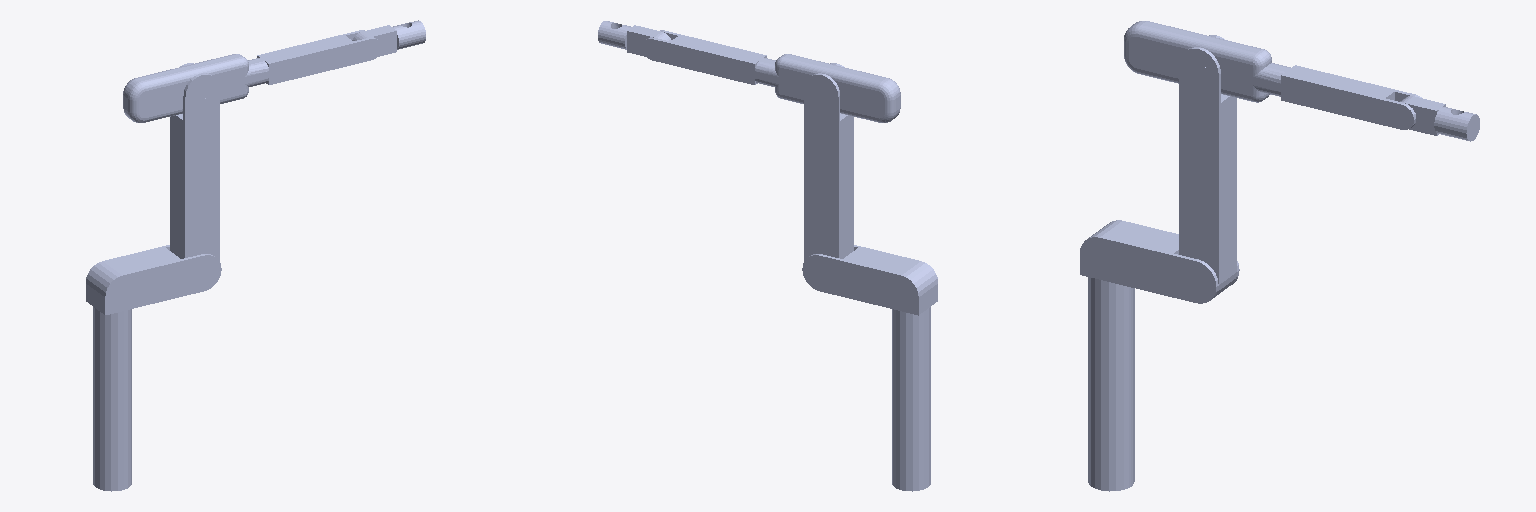
The robot description file, URDF, robot "antrop_parcial":
<?xml version="1.0" encoding="utf-8"?>
<!-- This URDF was automatically created by SolidWorks to URDF Exporter! Originally created by Stephen Brawner (brawner@gmail.com) 
     Commit Version: 1.6.0-4-g7f85cfe  Build Version: 1.6.7995.38578
     For more information, please see http://wiki.ros.org/sw_urdf_exporter -->
<robot
  name="antrop_parcial">
  <link
    name="base_link">
    <inertial>
      <origin
        xyz="0 0 0.127637362637363"
        rpy="0 0 0" />
      <mass
        value="0.500298630084175" />
      <inertia
        ixx="0.00281552189368122"
        ixy="-9.51023246229451E-37"
        ixz="7.82859738424305E-21"
        iyy="0.00281552189368122"
        iyz="2.93873587705572E-36"
        izz="0.000153869317686603" />
    </inertial>
    <visual>
      <origin
        xyz="0 0 0"
        rpy="0 0 0" />
      <geometry>
        <mesh
          filename="package://antrop_parcial/meshes/base_link.STL" />
      </geometry>
      <material
        name="">
        <color
          rgba="0.792156862745098 0.819607843137255 0.933333333333333 1" />
      </material>
    </visual>
    <collision>
      <origin
        xyz="0 0 0"
        rpy="0 0 0" />
      <geometry>
        <mesh
          filename="package://antrop_parcial/meshes/base_link.STL" />
      </geometry>
    </collision>
  </link>
  <link
    name="rot1">
    <inertial>
      <origin
        xyz="0.0445308383018185 -1.09504419421036E-17 0.0248827682680419"
        rpy="0 0 0" />
      <mass
        value="0.306747611120431" />
      <inertia
        ixx="0.000132408996930483"
        ixy="2.31092171116748E-20"
        ixz="-4.04275985320016E-06"
        iyy="0.000569066893650669"
        iyz="3.88382545686645E-21"
        izz="0.000581231456583244" />
    </inertial>
    <visual>
      <origin
        xyz="0 0 0"
        rpy="0 0 0" />
      <geometry>
        <mesh
          filename="package://antrop_parcial/meshes/rot1.STL" />
      </geometry>
      <material
        name="">
        <color
          rgba="0.792156862745098 0.819607843137255 0.933333333333333 1" />
      </material>
    </visual>
    <collision>
      <origin
        xyz="0 0 0"
        rpy="0 0 0" />
      <geometry>
        <mesh
          filename="package://antrop_parcial/meshes/rot1.STL" />
      </geometry>
    </collision>
  </link>
  <joint
    name="1"
    type="continuous">
    <origin
      xyz="0 0 0.25"
      rpy="0 0 0" />
    <parent
      link="base_link" />
    <child
      link="rot1" />
    <axis
      xyz="0 0 1" />
  </joint>
  <link
    name="rot2">
    <inertial>
      <origin
        xyz="-2.91433543964104E-16 0.107347016959895 0"
        rpy="0 0 0" />
      <mass
        value="0.480607490017801" />
      <inertia
        ixx="0.00256750193941879"
        ixy="8.74233219612743E-18"
        ixz="-6.60980169035022E-21"
        iyy="0.000168777360172501"
        iyz="-1.66491200354361E-20"
        izz="0.00259962401732566" />
    </inertial>
    <visual>
      <origin
        xyz="0 0 0"
        rpy="0 0 0" />
      <geometry>
        <mesh
          filename="package://antrop_parcial/meshes/rot2.STL" />
      </geometry>
      <material
        name="">
        <color
          rgba="0.792156862745098 0.819607843137255 0.933333333333333 1" />
      </material>
    </visual>
    <collision>
      <origin
        xyz="0 0 0"
        rpy="0 0 0" />
      <geometry>
        <mesh
          filename="package://antrop_parcial/meshes/rot2.STL" />
      </geometry>
    </collision>
  </link>
  <joint
    name="2"
    type="continuous">
    <origin
      xyz="0.12 0 0.0250000000000001"
      rpy="1.5707963267949 0 0" />
    <parent
      link="rot1" />
    <child
      link="rot2" />
    <axis
      xyz="0 0 1" />
  </joint>
  <link
    name="rot3">
    <inertial>
      <origin
        xyz="-2.22044604925031E-16 0.0108238138063189 -1.21430643318376E-17"
        rpy="0 0 0" />
      <mass
        value="0.270791217116411" />
      <inertia
        ixx="0.000747444616266821"
        ixy="5.16811263645853E-18"
        ixz="-4.36547414906191E-11"
        iyy="9.04657850828715E-05"
        iyz="6.18304015829005E-20"
        izz="0.00079623662451712" />
    </inertial>
    <visual>
      <origin
        xyz="0 0 0"
        rpy="0 0 0" />
      <geometry>
        <mesh
          filename="package://antrop_parcial/meshes/rot3.STL" />
      </geometry>
      <material
        name="">
        <color
          rgba="0.792156862745098 0.819607843137255 0.933333333333333 1" />
      </material>
    </visual>
    <collision>
      <origin
        xyz="0 0 0"
        rpy="0 0 0" />
      <geometry>
        <mesh
          filename="package://antrop_parcial/meshes/rot3.STL" />
      </geometry>
    </collision>
  </link>
  <joint
    name="3"
    type="continuous">
    <origin
      xyz="0 0.25 0"
      rpy="0 0 1.5708" />
    <parent
      link="rot2" />
    <child
      link="rot3" />
    <axis
      xyz="0 0 1" />
  </joint>
  <link
    name="rot4">
    <inertial>
      <origin
        xyz="-6.66133814775094E-16 -1.0855736882337E-14 0.143664004147768"
        rpy="0 0 0" />
      <mass
        value="0.152485837989553" />
      <inertia
        ixx="0.00057900202246224"
        ixy="-7.94289012365149E-21"
        ixz="3.71375585964878E-19"
        iyy="0.000578463326383573"
        iyz="-3.61294381182575E-21"
        izz="2.0451602448796E-05" />
    </inertial>
    <visual>
      <origin
        xyz="0 0 0"
        rpy="0 0 0" />
      <geometry>
        <mesh
          filename="package://antrop_parcial/meshes/rot4.STL" />
      </geometry>
      <material
        name="">
        <color
          rgba="0.792156862745098 0.819607843137255 0.933333333333333 1" />
      </material>
    </visual>
    <collision>
      <origin
        xyz="0 0 0"
        rpy="0 0 0" />
      <geometry>
        <mesh
          filename="package://antrop_parcial/meshes/rot4.STL" />
      </geometry>
    </collision>
  </link>
  <joint
    name="4"
    type="continuous">
    <origin
      xyz="0 0 0"
      rpy="1.5708 0 0" />
    <parent
      link="rot3" />
    <child
      link="rot4" />
    <axis
      xyz="0 0 -1" />
  </joint>
  <link
    name="rot5">
    <inertial>
      <origin
        xyz="0 -0.0111165796349907 1.18175326295489E-14"
        rpy="0 0 0" />
      <mass
        value="0.0280526545231308" />
      <inertia
        ixx="7.98304420565283E-06"
        ixy="3.94701541515614E-20"
        ixz="-5.64883174553266E-21"
        iyy="3.65832664317194E-06"
        iyz="-9.01386826073888E-22"
        izz="8.72615355637492E-06" />
    </inertial>
    <visual>
      <origin
        xyz="0 0 0"
        rpy="0 0 0" />
      <geometry>
        <mesh
          filename="package://antrop_parcial/meshes/rot5.STL" />
      </geometry>
      <material
        name="">
        <color
          rgba="0.792156862745098 0.819607843137255 0.933333333333333 1" />
      </material>
    </visual>
    <collision>
      <origin
        xyz="0 0 0"
        rpy="0 0 0" />
      <geometry>
        <mesh
          filename="package://antrop_parcial/meshes/rot5.STL" />
      </geometry>
    </collision>
  </link>
  <joint
    name="5"
    type="continuous">
    <origin
      xyz="0 0 0.25"
      rpy="-1.5708 0 0" />
    <parent
      link="rot4" />
    <child
      link="rot5" />
    <axis
      xyz="0 0 -1" />
  </joint>
  <link
    name="rot6">
    <inertial>
      <origin
        xyz="-8.22390688881569E-09 9.32742855267463E-09 0.051594322436814"
        rpy="0 0 0" />
      <mass
        value="0.0293018734953369" />
      <inertia
        ixx="1.38937890416148E-05"
        ixy="-2.48681364468289E-08"
        ixz="3.19080070928307E-12"
        iyy="1.36059363892186E-05"
        iyz="-2.19886443207452E-12"
        izz="2.90053964064901E-06" />
    </inertial>
    <visual>
      <origin
        xyz="0 0 0"
        rpy="0 0 0" />
      <geometry>
        <mesh
          filename="package://antrop_parcial/meshes/rot6.STL" />
      </geometry>
      <material
        name="">
        <color
          rgba="0.792156862745098 0.819607843137255 0.933333333333333 1" />
      </material>
    </visual>
    <collision>
      <origin
        xyz="0 0 0"
        rpy="0 0 0" />
      <geometry>
        <mesh
          filename="package://antrop_parcial/meshes/rot6.STL" />
      </geometry>
    </collision>
  </link>
  <joint
    name="6"
    type="continuous">
    <origin
      xyz="0 0 0"
      rpy="1.5708 0 0" />
    <parent
      link="rot5" />
    <child
      link="rot6" />
    <axis
      xyz="0 0 -1" />
  </joint>
  <link
    name="efector">
    <inertial>
      <origin
        xyz="-8.22390644472648E-09 9.32741710908333E-09 -0.0284056775631861"
        rpy="0 0 0" />
      <mass
        value="0.0293018734953369" />
      <inertia
        ixx="1.38937890416148E-05"
        ixy="-2.4868136446831E-08"
        ixz="3.19080070674035E-12"
        iyy="1.36059363892186E-05"
        iyz="-2.19886443206879E-12"
        izz="2.90053964064901E-06" />
    </inertial>
    <visual>
      <origin
        xyz="0 0 0"
        rpy="0 0 0" />
      <geometry>
        <mesh
          filename="package://antrop_parcial/meshes/efector.STL" />
      </geometry>
      <material
        name="">
        <color
          rgba="0.792156862745098 0.819607843137255 0.933333333333333 1" />
      </material>
    </visual>
    <collision>
      <origin
        xyz="0 0 0"
        rpy="0 0 0" />
      <geometry>
        <mesh
          filename="package://antrop_parcial/meshes/efector.STL" />
      </geometry>
    </collision>
  </link>
  <joint
    name="7"
    type="fixed">
    <origin
      xyz="0 0 0.08"
      rpy="0 0 0" />
    <parent
      link="rot6" />
    <child
      link="efector" />
    <axis
      xyz="0 0 0" />
  </joint>
</robot>

--- What the picture shows (computed from the rendered views, not written in the file) ---
Views: 3 orthographic renders of the robot side by side, from view 1: azimuth 30°, elevation 25°; view 2: azimuth 150°, elevation 25°; view 3: azimuth 330°, elevation 25°.
Robot: antrop_parcial — 8 links, 7 joints (6 continuous, 1 fixed); root link base_link; default pose: all joints at 0.
Links seen in each view (by area): view 1: rot2, base_link, rot1, rot3, rot4, rot5, rot6; view 2: rot2, base_link, rot1, rot3, rot4, rot5, rot6; view 3: rot2, base_link, rot1, rot3, rot4, rot6, rot5.
Boxes of the visible links, bbox=[...] form: rot2: bbox=[170, 63, 219, 260]; base_link: bbox=[93, 307, 131, 491]; rot1: bbox=[86, 245, 221, 314]; rot3: bbox=[123, 54, 268, 122]; rot4: bbox=[257, 30, 381, 84]; rot5: bbox=[352, 25, 396, 56]; rot6: bbox=[393, 20, 425, 49]; rot2: bbox=[804, 63, 853, 260]; base_link: bbox=[892, 307, 930, 491]; rot1: bbox=[802, 245, 937, 315]; rot3: bbox=[755, 54, 900, 122]; rot4: bbox=[642, 30, 766, 84]; rot5: bbox=[627, 25, 671, 56]; rot6: bbox=[598, 21, 631, 49]; rot2: bbox=[1179, 35, 1236, 297]; base_link: bbox=[1088, 277, 1134, 491]; rot1: bbox=[1080, 220, 1239, 303]; rot3: bbox=[1124, 21, 1290, 102]; rot4: bbox=[1281, 65, 1421, 129]; rot6: bbox=[1434, 107, 1479, 141]; rot5: bbox=[1394, 96, 1445, 135].
Size in the robot's own frame: 0.475 by 0.05 by 0.5538 metres.
Meshes: 8 distinct files referenced, 8 mesh visuals loaded (8 binary STL).
